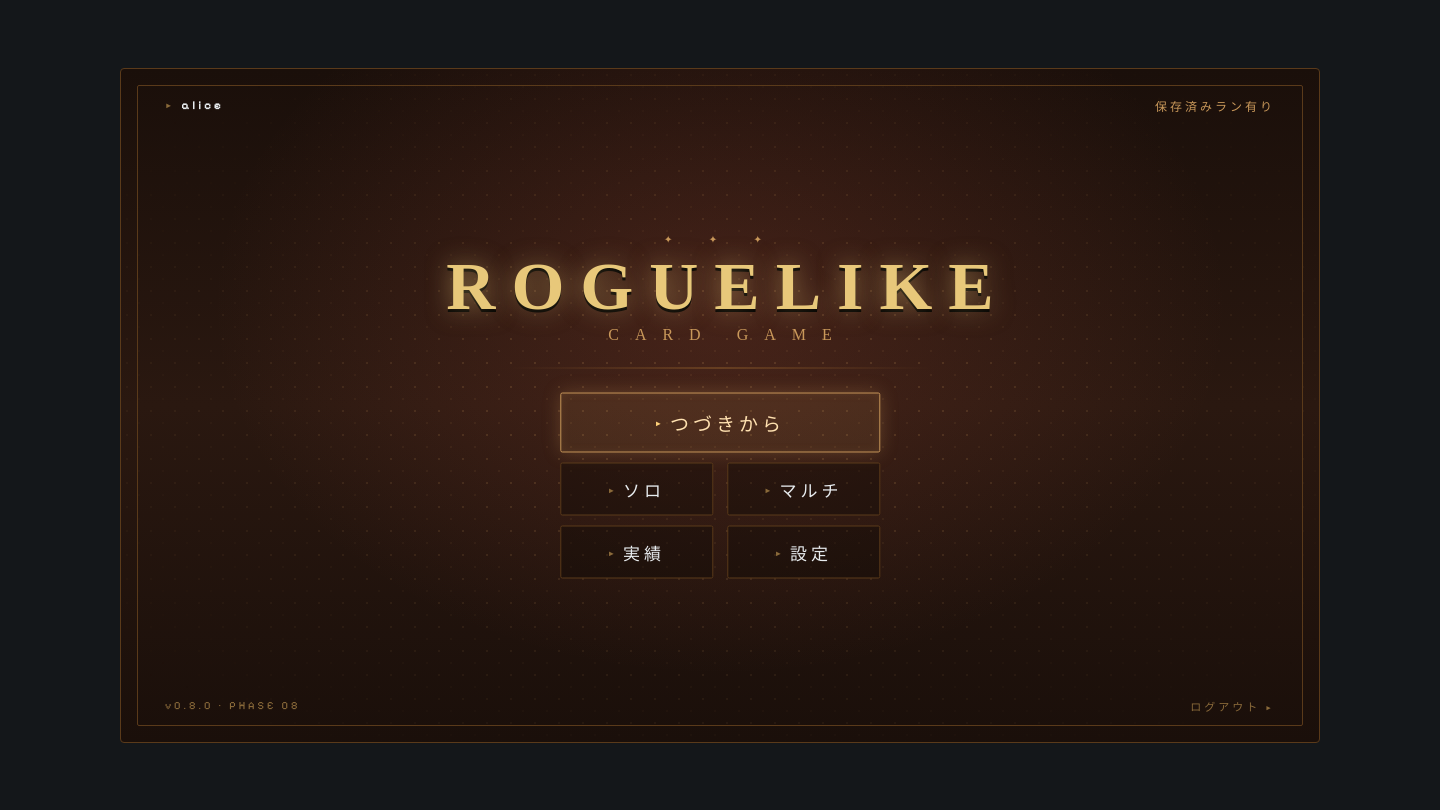
Test case: MainMenuScreen › shows confirm dialog when single-play clicked with existing InProgress run
Expected: the text "保存済みラン有り" is shown, [1155,96,1275,114]
Click the button "▸ ソロ": (636,489) [560,462,713,516]
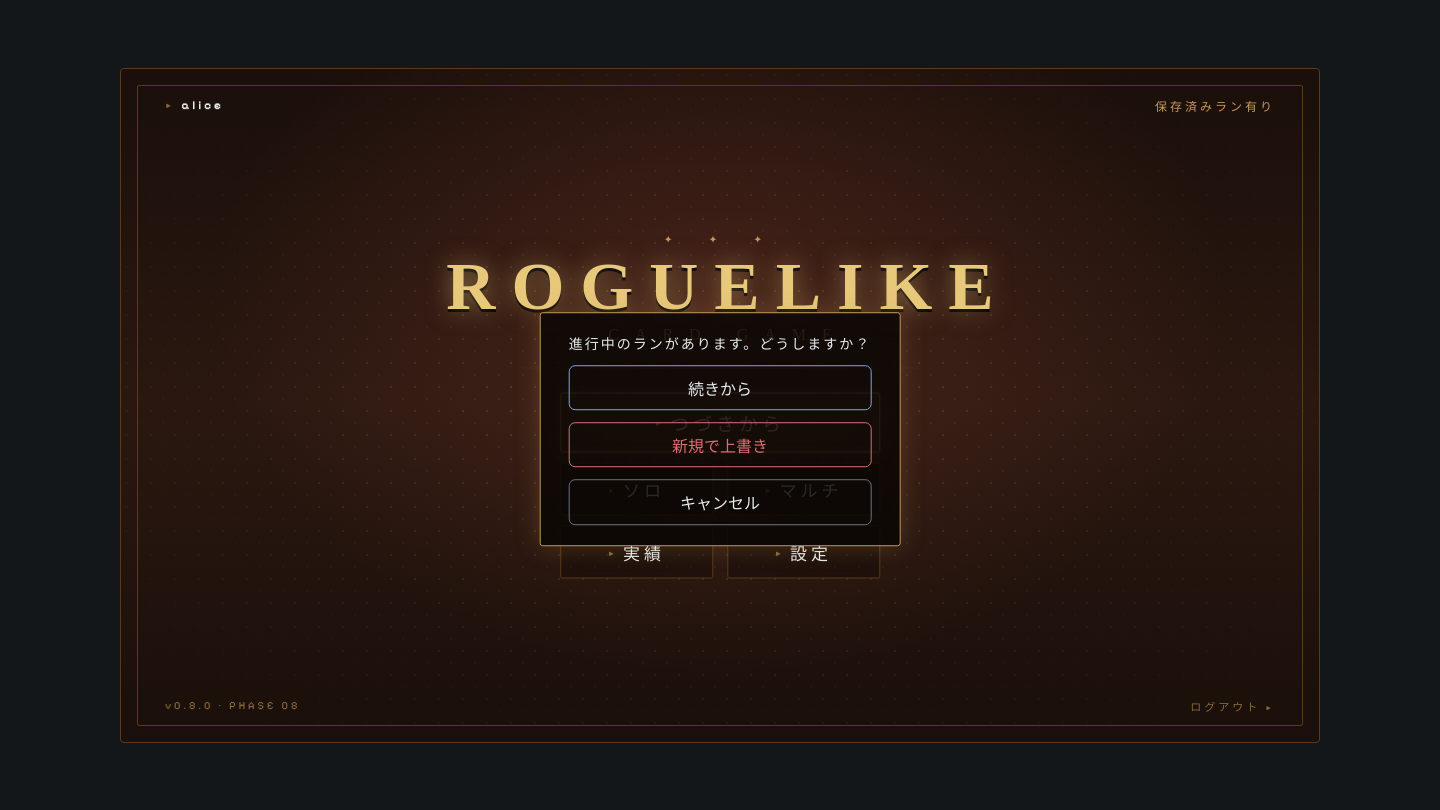
Expected: the text "進行中のランがあります。どうしますか？" is shown, [569,333,871,353]
Expected: the button "続きから" is shown, [569,365,871,410]
Expected: the button "新規で上書き" is shown, [569,422,871,468]
